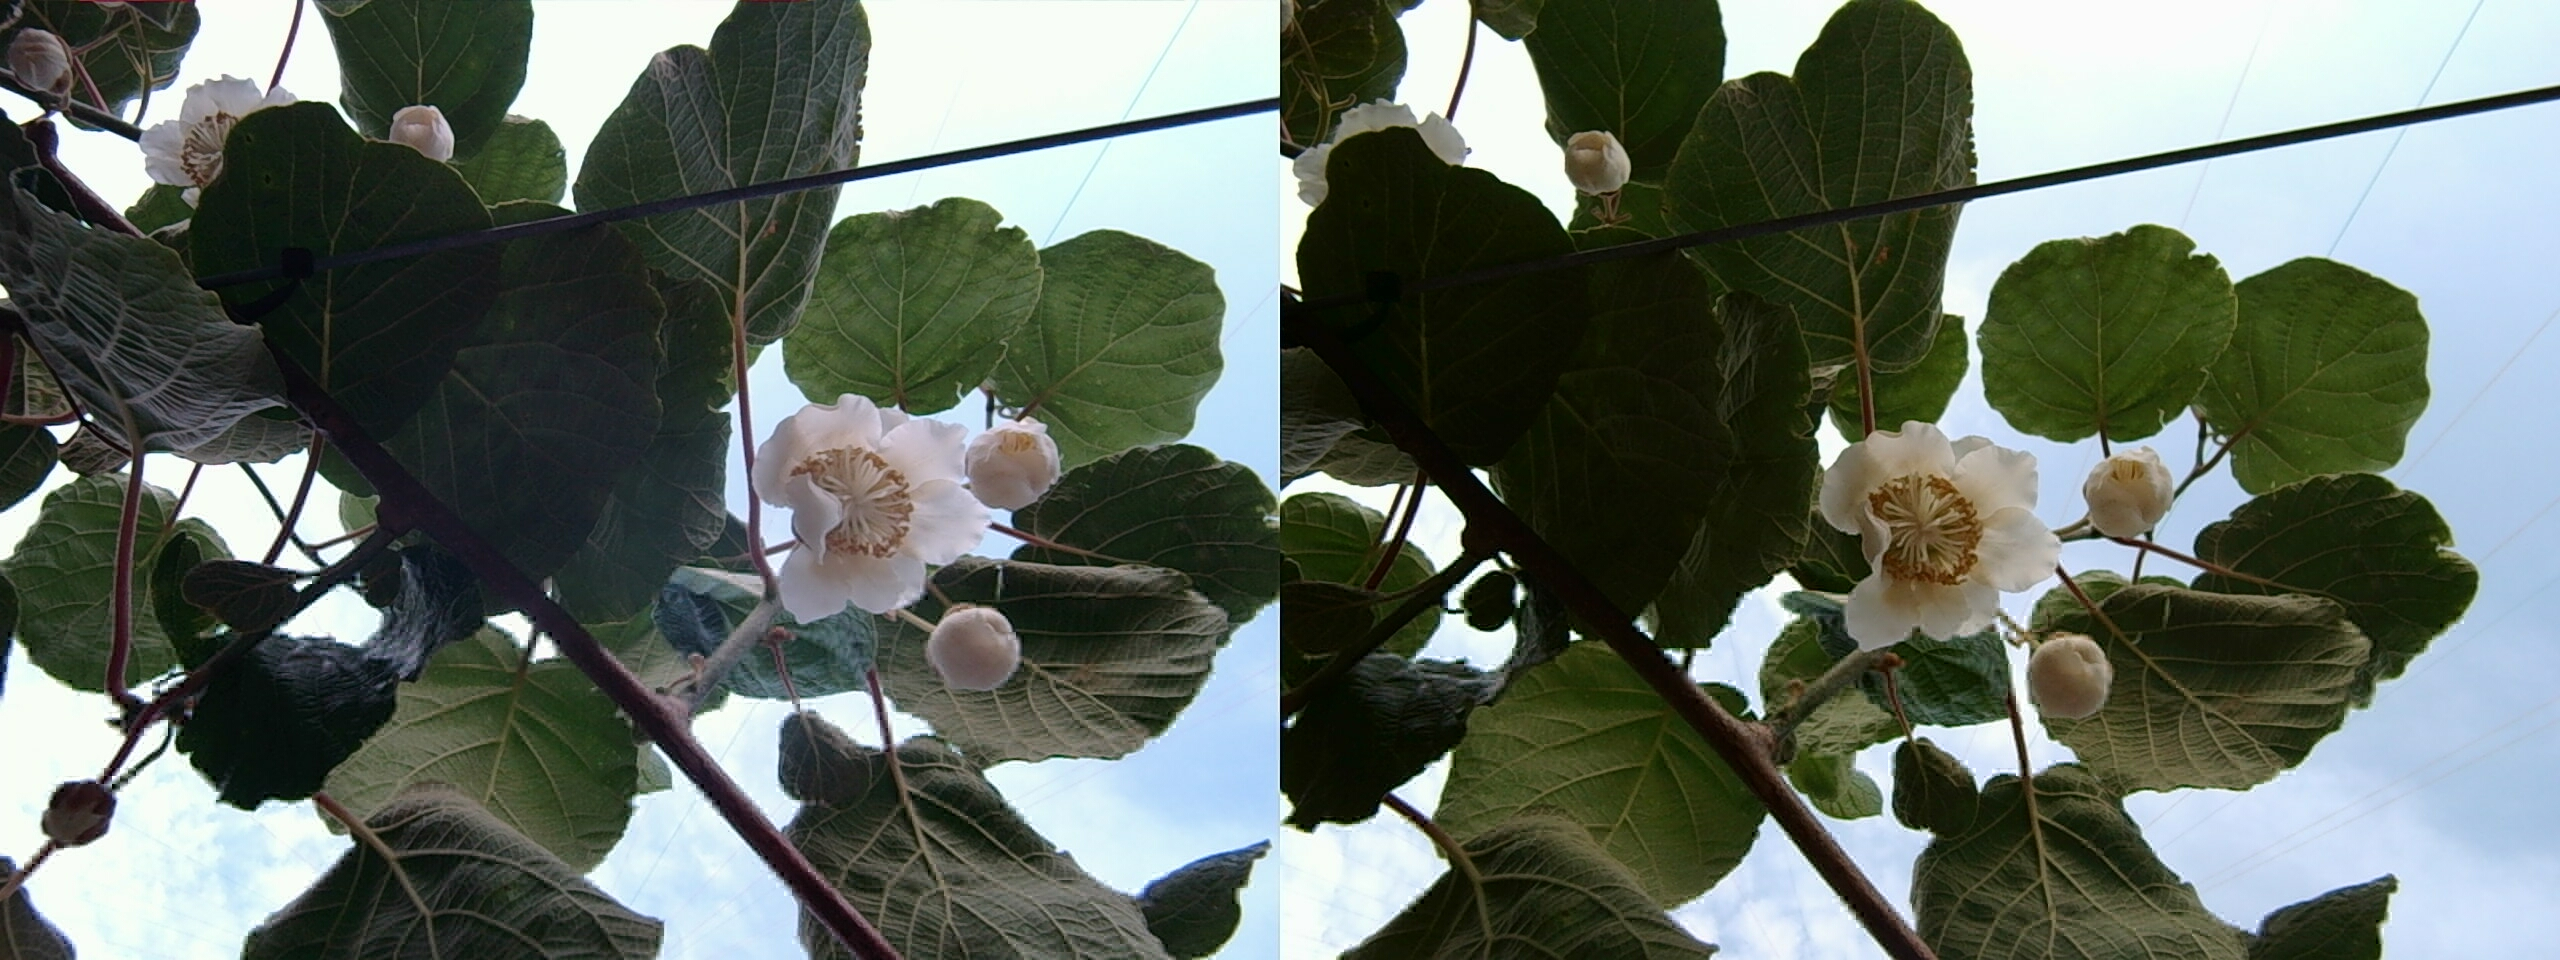flower: (753, 384, 1011, 614), (1817, 410, 2054, 642)
